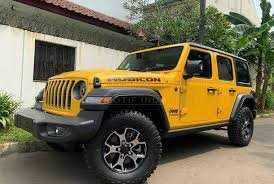mobil: (20, 40, 260, 179)
